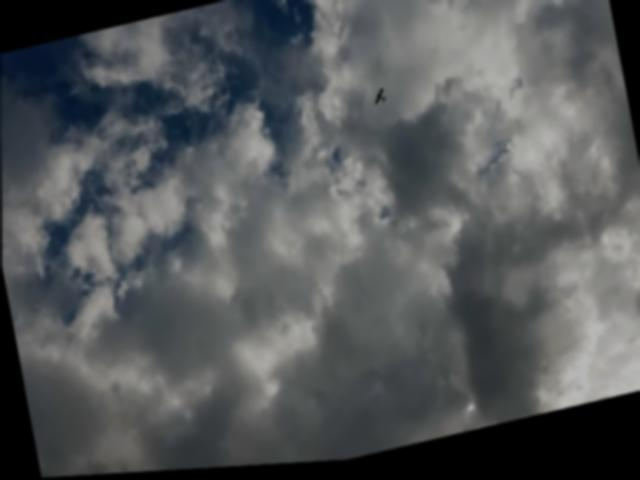plane: (373, 92, 387, 110)
